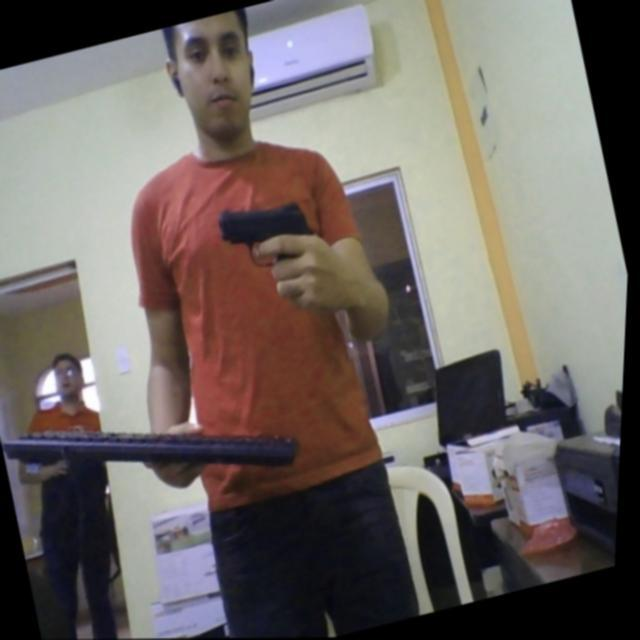weapon: (209, 188, 325, 280)
